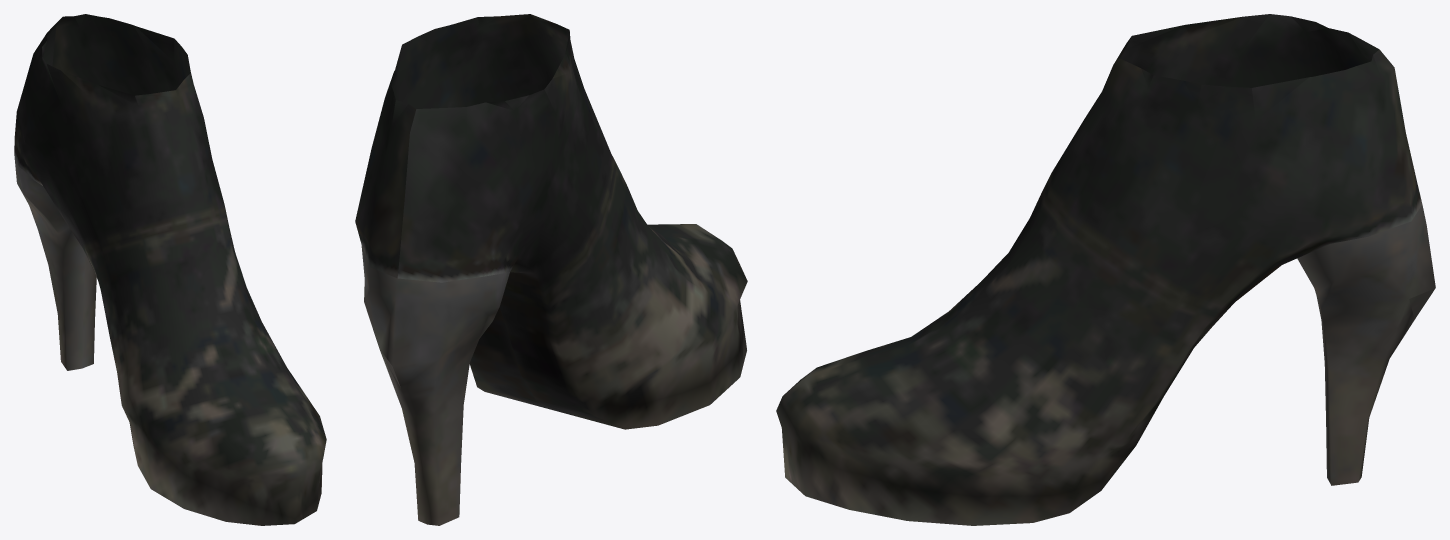
File: leftfeet.obj
The picture shows the model from 3 angles, left to right: view 1: azimuth 30°, elevation 25°; view 2: azimuth 150°, elevation 25°; view 3: azimuth 270°, elevation 25°; orthographic projection. The views are drawn at different scales.
Visible parts, largest first — view 1: leftfeet:Object01 leftfeet:polySurface3 leftfeet:polySurface4 le, leftfeet:Object01 leftfeet:polySurface3 leftfeet:polySurface5 le; view 2: leftfeet:Object01 leftfeet:polySurface3 leftfeet:polySurface4 le, leftfeet:Object01 leftfeet:polySurface3 leftfeet:polySurface5 le; view 3: leftfeet:Object01 leftfeet:polySurface3 leftfeet:polySurface4 le, leftfeet:Object01 leftfeet:polySurface3 leftfeet:polySurface5 le.
Boxes of the visible parts, x1,y1,x2,y2 form: leftfeet:Object01 leftfeet:polySurface3 leftfeet:polySurface4 le: [14, 14, 326, 525]; leftfeet:Object01 leftfeet:polySurface3 leftfeet:polySurface5 le: [14, 154, 96, 370]; leftfeet:Object01 leftfeet:polySurface3 leftfeet:polySurface4 le: [355, 14, 747, 429]; leftfeet:Object01 leftfeet:polySurface3 leftfeet:polySurface5 le: [361, 245, 509, 525]; leftfeet:Object01 leftfeet:polySurface3 leftfeet:polySurface4 le: [776, 14, 1422, 525]; leftfeet:Object01 leftfeet:polySurface3 leftfeet:polySurface5 le: [1297, 205, 1435, 485].
Size of the model in its own units: 1.82 by 3.7 by 5.16.
Materials: 1 (1 with a texture image).
